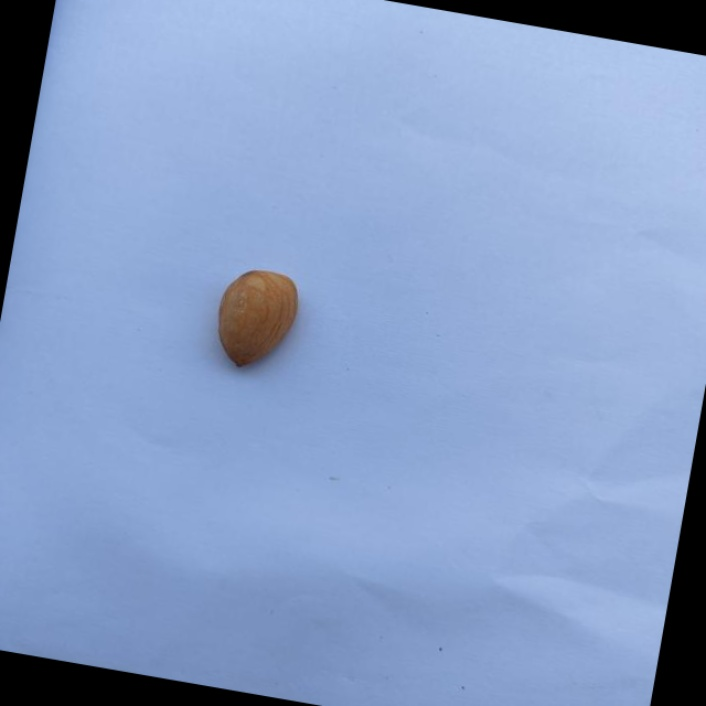grade2: (206, 260, 311, 380)
